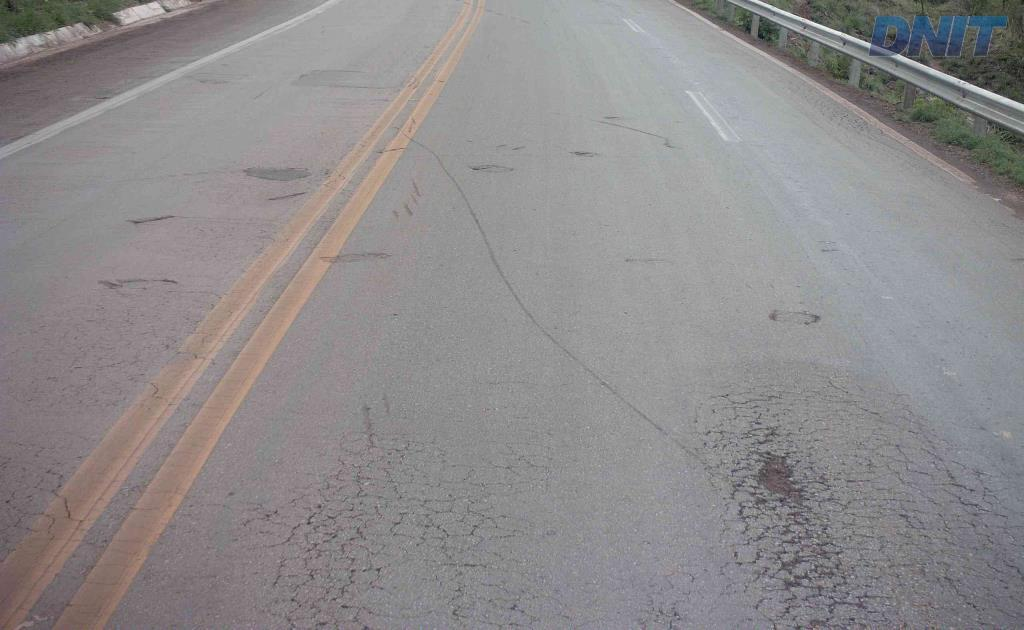crack: (780, 562, 883, 629), (774, 540, 841, 575)
pothole: (744, 448, 810, 507)
